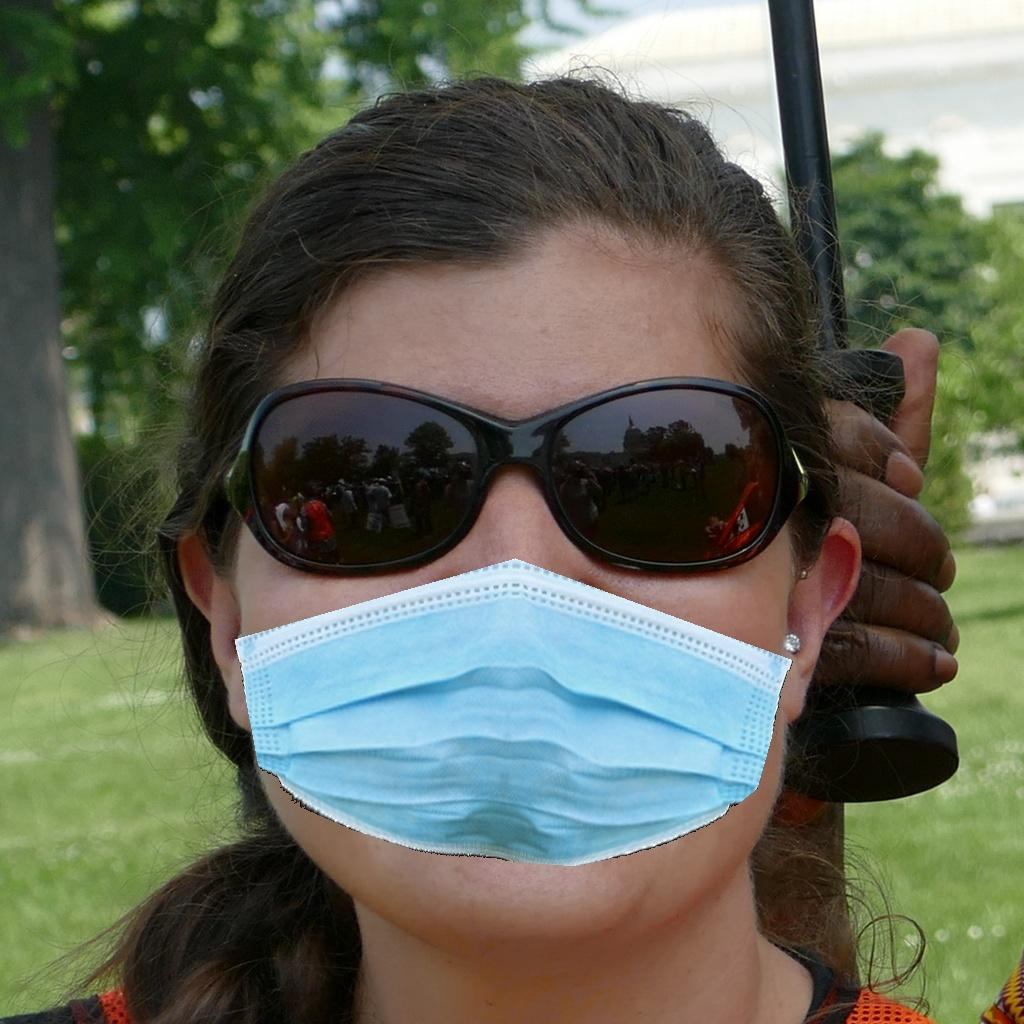Com Máscara: (203, 321, 820, 908)
